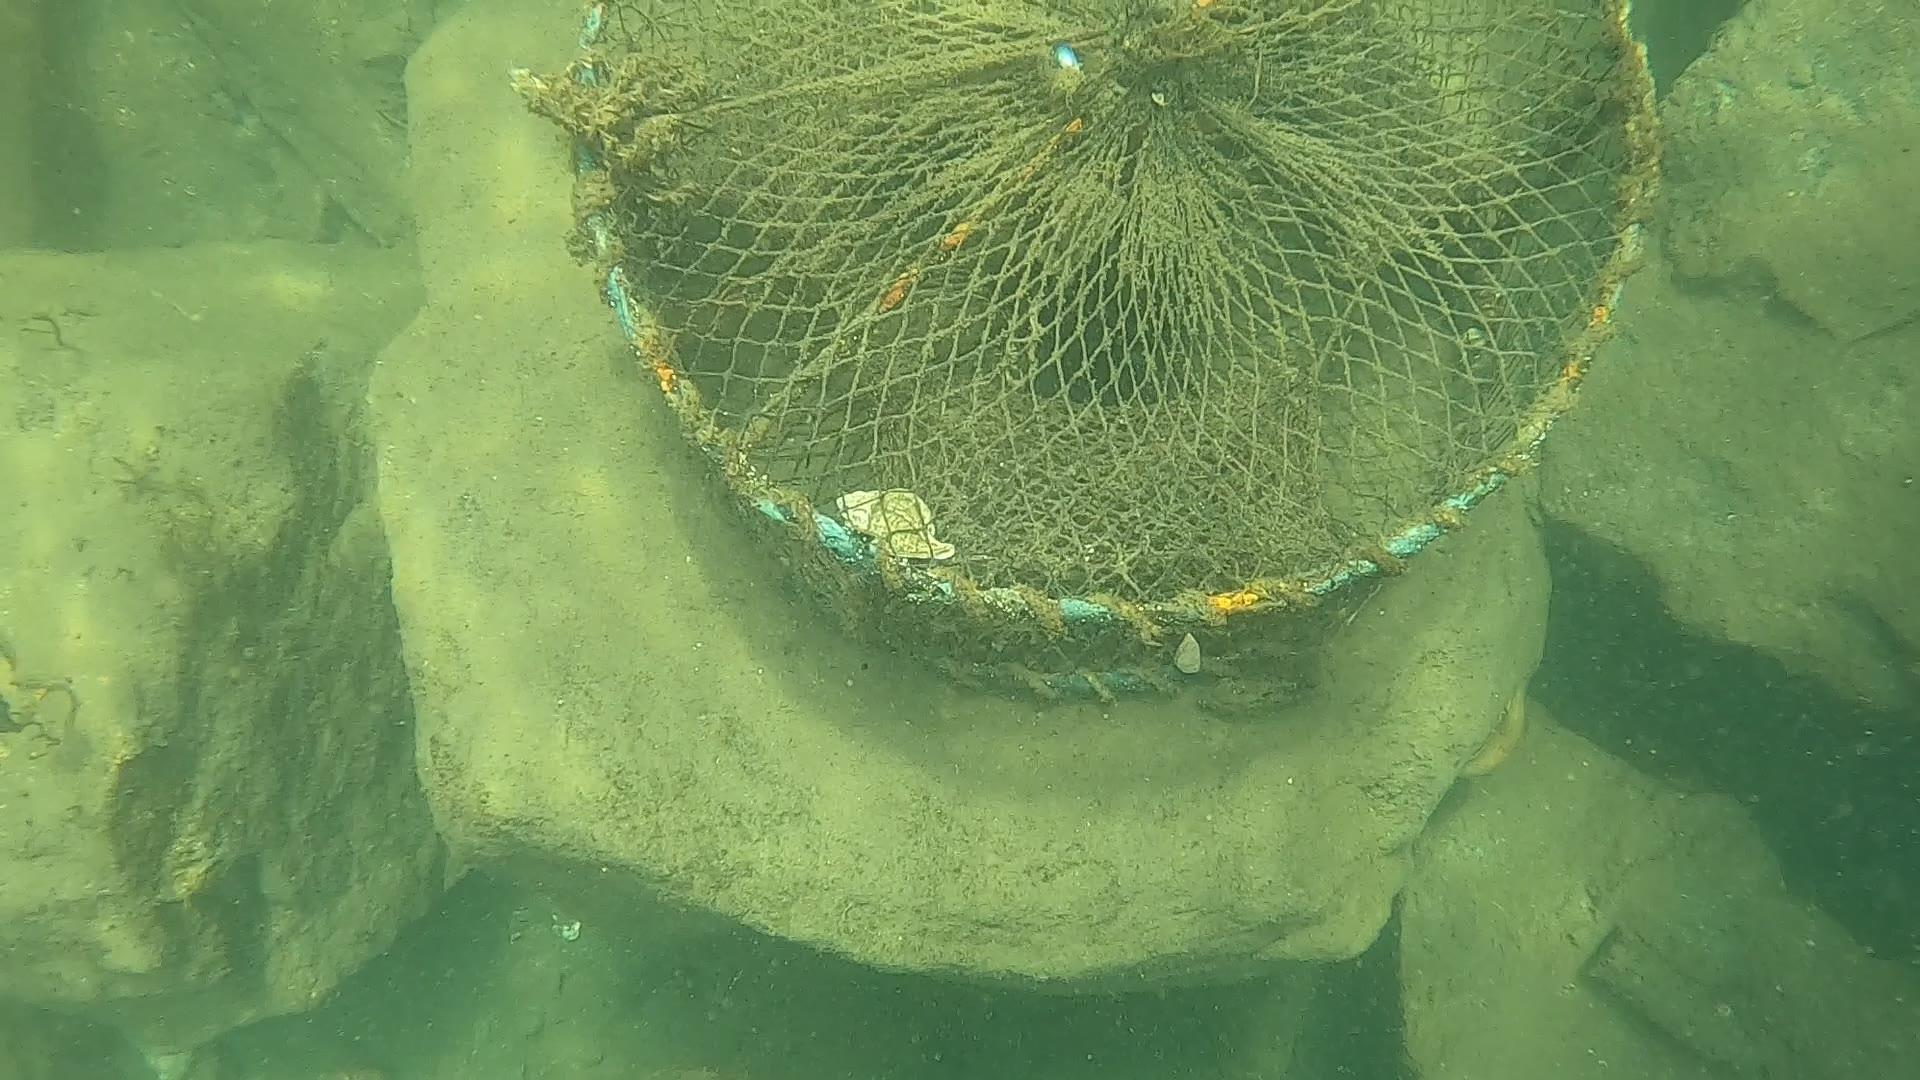circular fish trap: (564, 0, 1662, 705)
